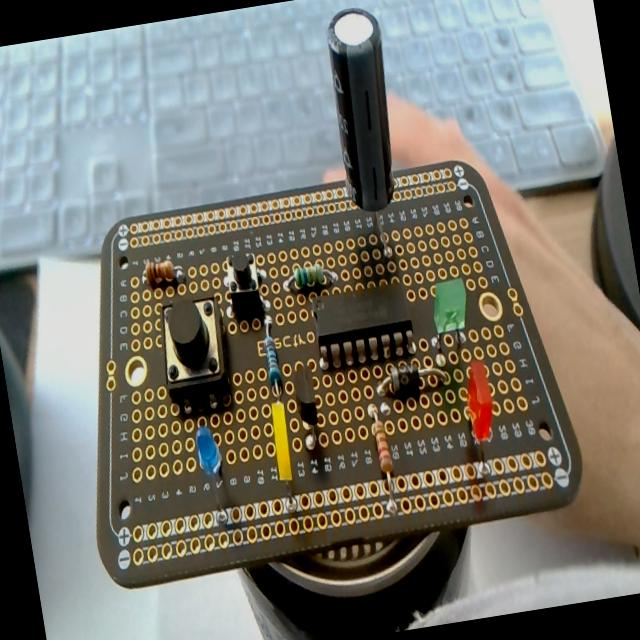Electrolytic capacitor: (307, 5, 426, 325)
IC: (312, 278, 417, 370)
diode: (372, 354, 448, 399)
led: (458, 360, 504, 480), (193, 424, 233, 525), (427, 276, 473, 339), (266, 400, 297, 484)
resistor: (368, 406, 400, 514), (283, 259, 339, 296), (258, 315, 284, 392), (144, 256, 178, 286)
switch: (153, 288, 234, 409), (220, 246, 268, 318)
transistor: (288, 364, 328, 456)
